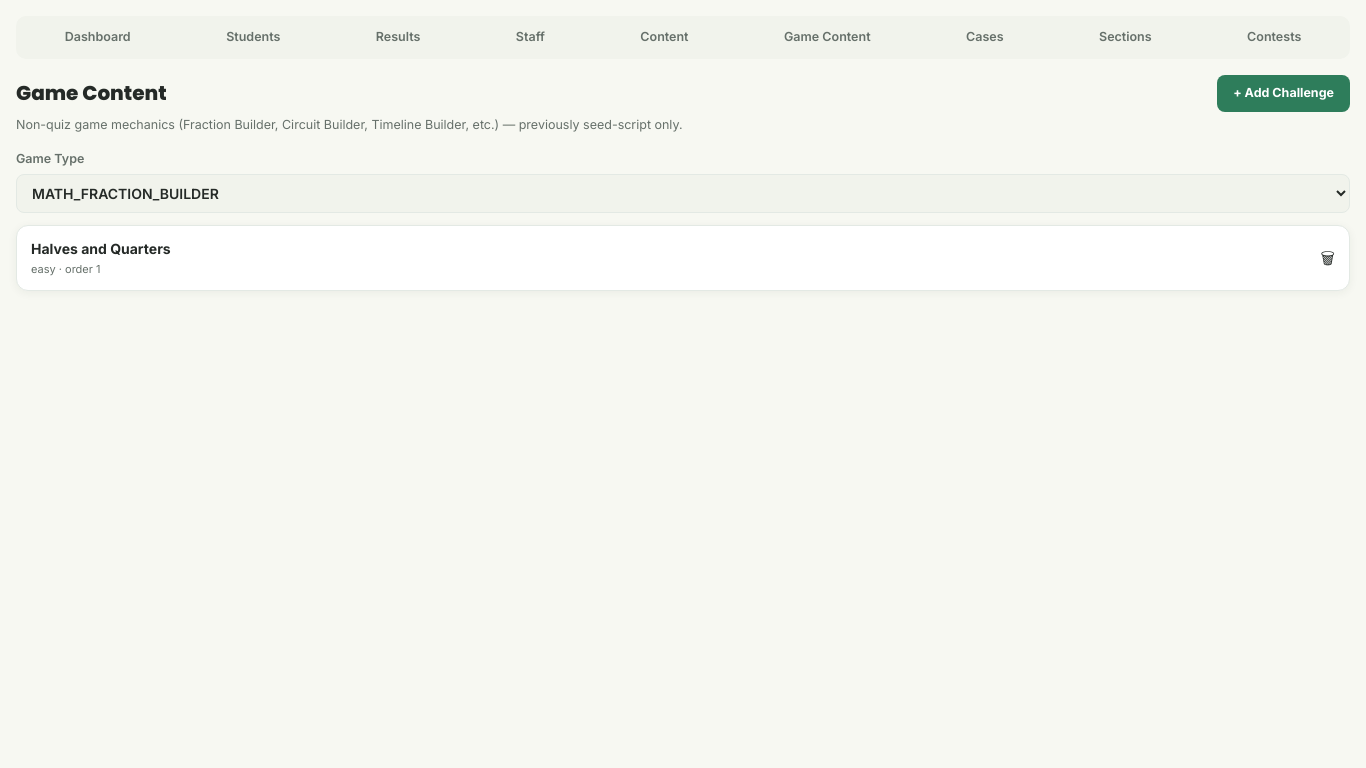
Test: AdminGameContent › clicking a row opens an edit modal pre-filled with its data, without concept_id/game_type fields
Click the text "Halves and Quarters". click: (101, 248)
box: [31,240,171,257]
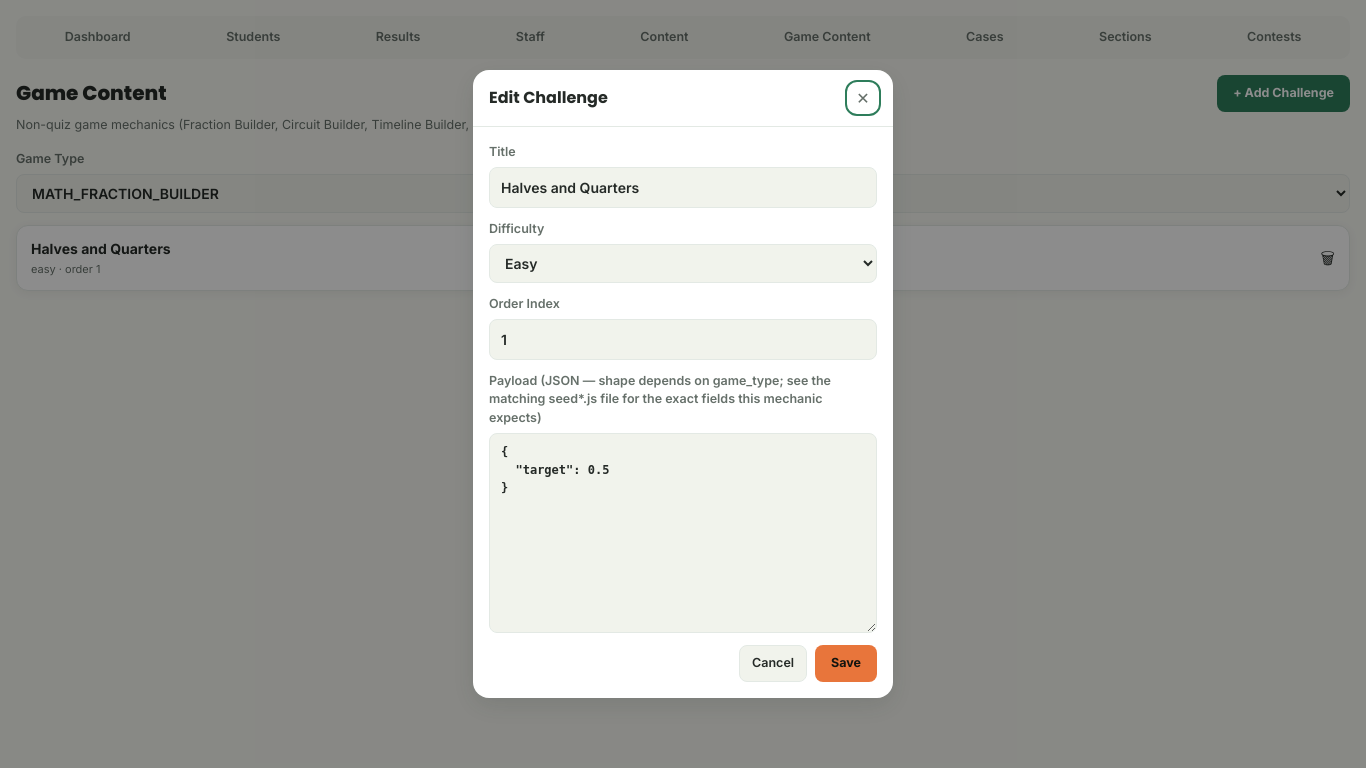
Expected: the text "Edit Challenge" is shown, [489,86,608,110]
Expected: the field showing "Halves and Quarters" is shown, [489,167,877,208]
